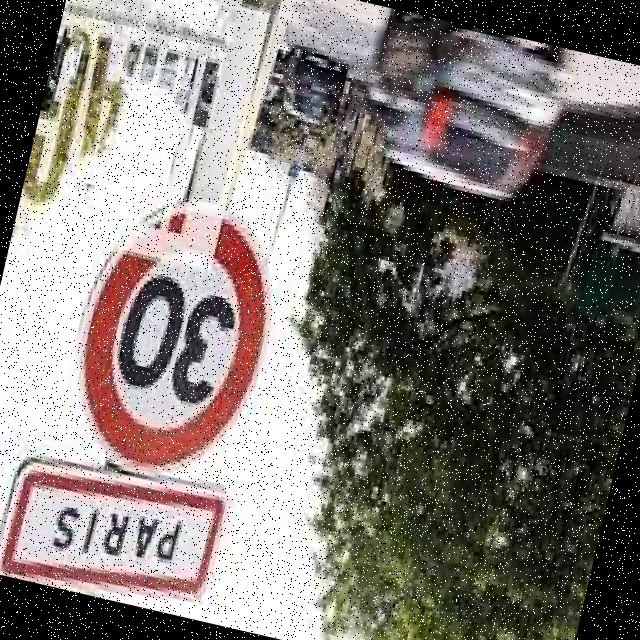speed_limit_30: (50, 184, 292, 494)
